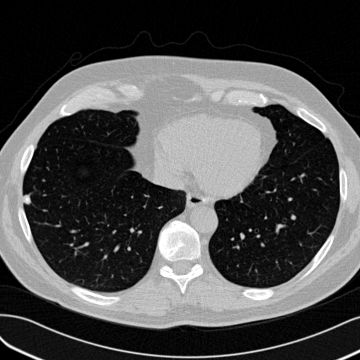nodule: (22, 195, 30, 203)
